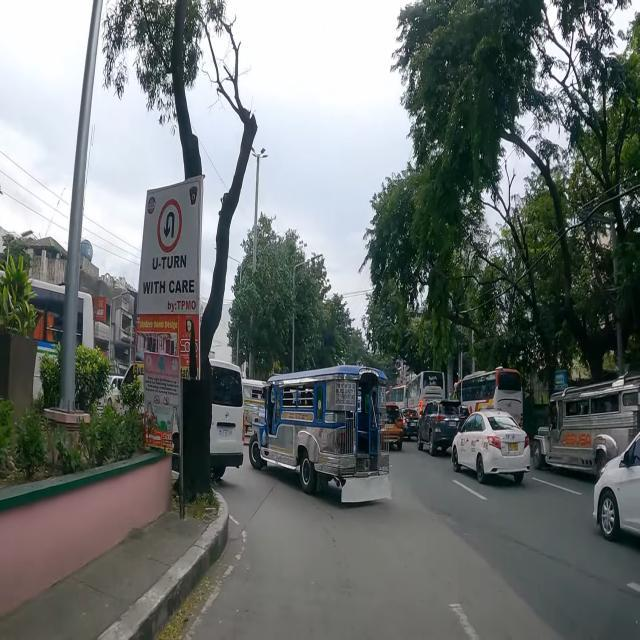bus: (0, 272, 94, 398), (453, 366, 523, 427), (406, 371, 446, 415), (386, 385, 407, 410)
car: (452, 408, 530, 484), (592, 432, 640, 540), (417, 400, 467, 456), (386, 402, 404, 450), (402, 408, 419, 441)
jeepney: (248, 365, 391, 503), (531, 373, 640, 478), (242, 379, 266, 444)
